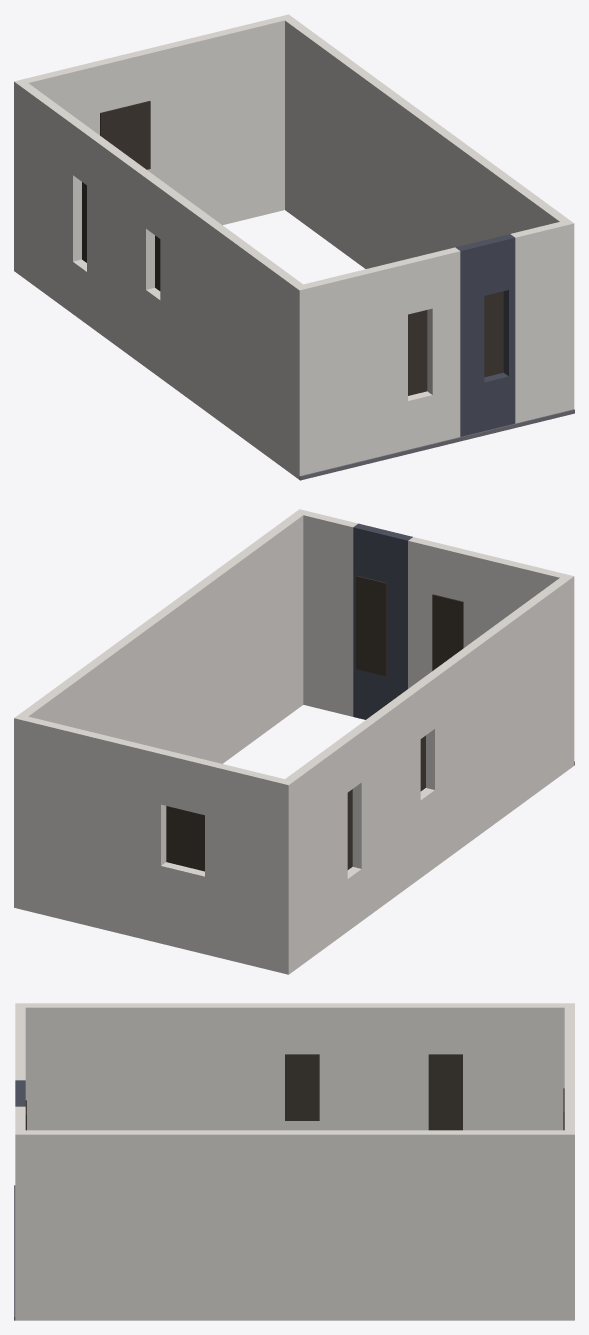
The model's file is SM_Floor_NarrowUpperScatterLowEndL_White_455_Back_01.gltf.
3 views of the same model, one above another, from view 1: azimuth 30°, elevation 25°; view 2: azimuth 150°, elevation 25°; view 3: azimuth 270°, elevation 25° (orthographic). The views are drawn at different scales.
Parts seen in each view (by area): view 1: SM_Floor_NarrowUpperScatterLowEndL_White_455_Back_01; view 2: SM_Floor_NarrowUpperScatterLowEndL_White_455_Back_01; view 3: SM_Floor_NarrowUpperScatterLowEndL_White_455_Back_01.
Part boxes in pixels (x1,y1,x2,y2): SM_Floor_NarrowUpperScatterLowEndL_White_455_Back_01: [14, 14, 574, 480]; SM_Floor_NarrowUpperScatterLowEndL_White_455_Back_01: [14, 509, 574, 974]; SM_Floor_NarrowUpperScatterLowEndL_White_455_Back_01: [14, 1003, 574, 1320].
Bounding box in the file's own units: 4.55 × 3 × 8.21.
Materials: 1 (1 with a texture image).
